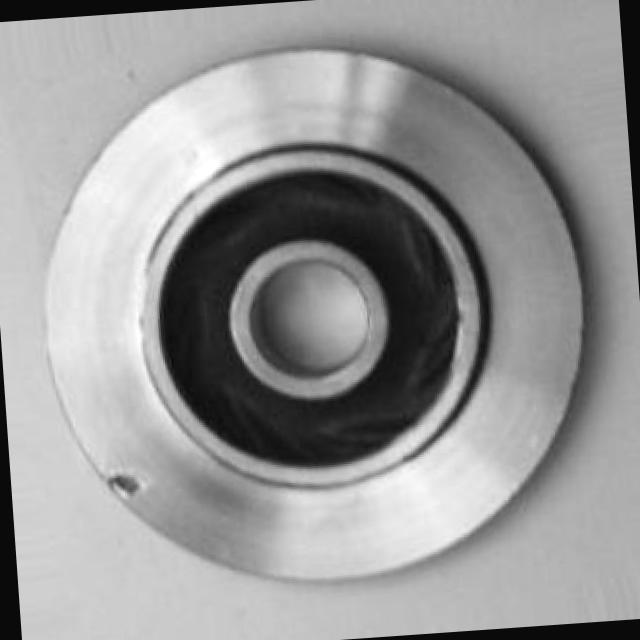Defect: (106, 460, 146, 506)
